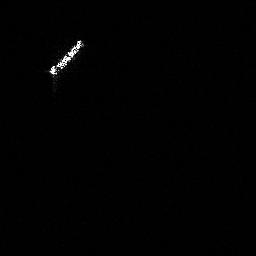ship: (43, 38, 86, 92)
